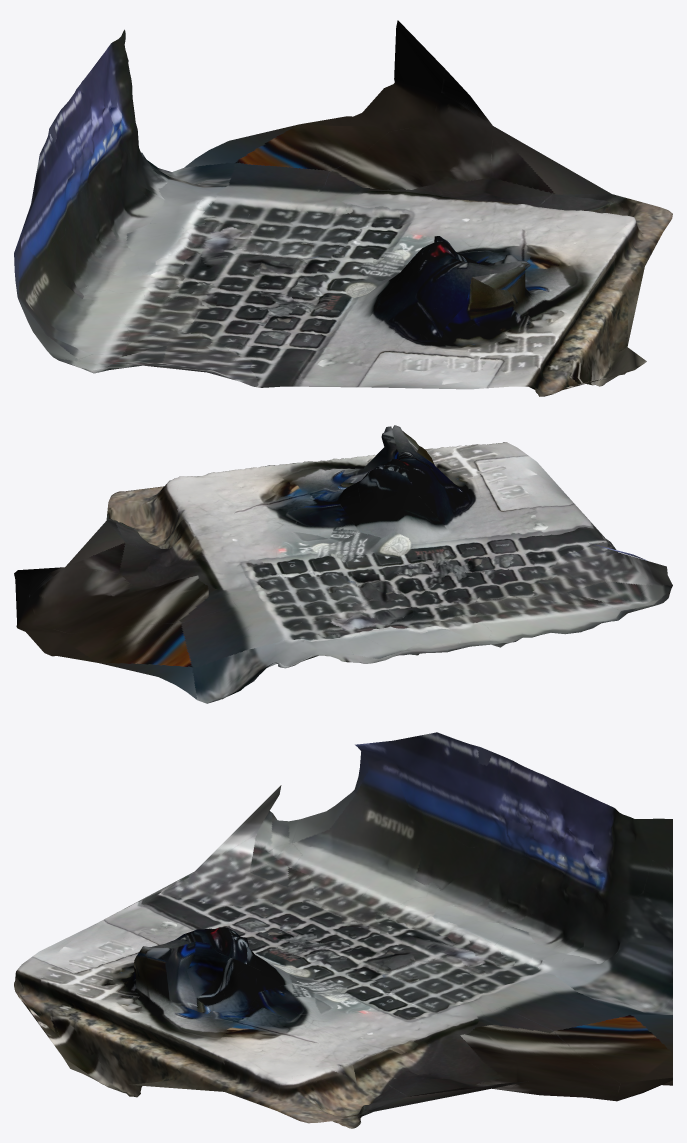
Rendered from mouse.glb.
3 views of the same model, one above another, from view 1: azimuth 30°, elevation 25°; view 2: azimuth 150°, elevation 25°; view 3: azimuth 270°, elevation 25° (orthographic). The views are drawn at different scales.
Parts seen in each view (by area): view 1: submesh; view 2: submesh; view 3: submesh.
Part boxes in pixels (box(x1,y1,x2,y2)): submesh: box(14, 20, 672, 396); submesh: box(14, 425, 672, 703); submesh: box(14, 732, 672, 1128).
Size of the model in its own units: 1.6 by 0.4734 by 1.56.
Materials: 1 (1 with a texture image).
